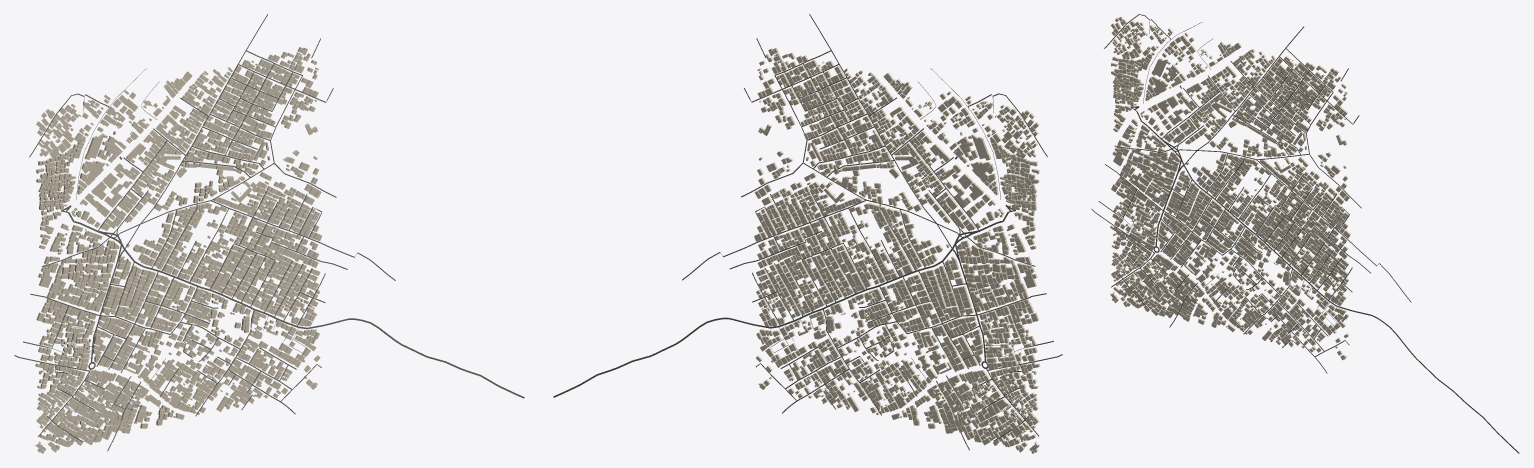
The model's file is historic-palestine-03_21_3447_3150.glb.
3 views of the same model, side by side, from view 1: azimuth 30°, elevation 25°; view 2: azimuth 150°, elevation 25°; view 3: azimuth 330°, elevation 25° (orthographic). The views are drawn at different scales.
Parts seen in each view (by area): view 1: Road شارع الشعف; view 2: Road شارع الشعف; view 3: Road شارع الشعف.
Part boxes in pixels (box(x1,y1,x2,y2)): Road شارع الشعف: box(121, 244, 524, 398); Road شارع الشعف: box(553, 243, 955, 397); Road شارع الشعف: box(1181, 159, 1519, 453).
Size of the model in its own units: 1745 by 1460 by 9.09.
